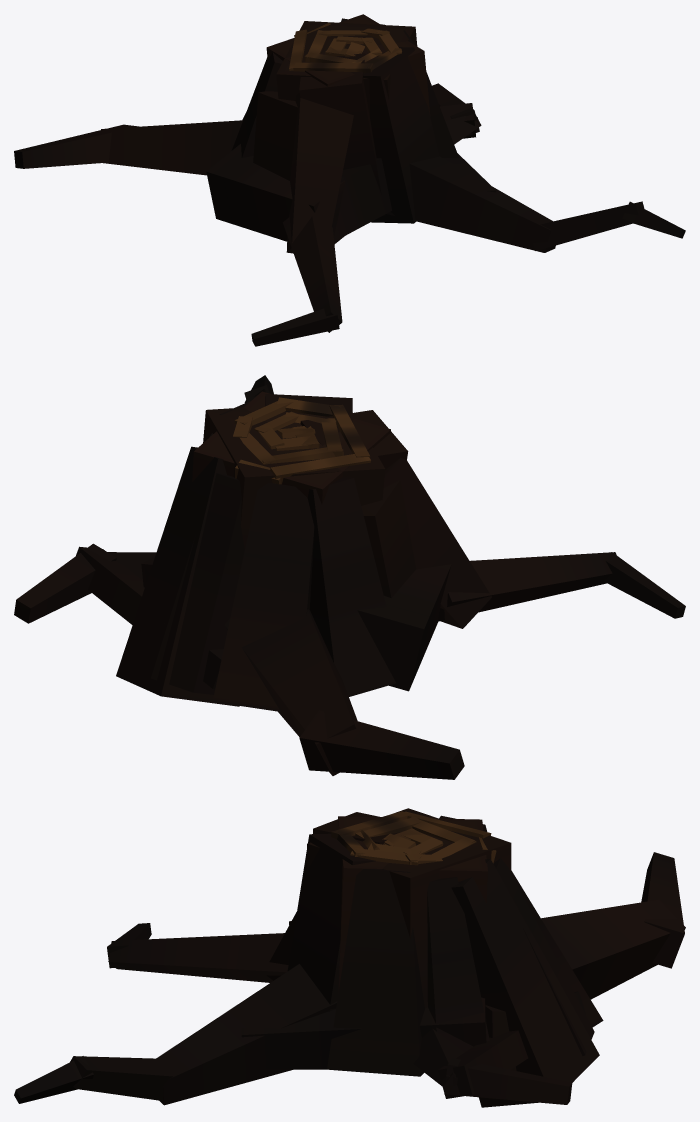
Rendered from Treetrunk_01_quill.fbx.
The picture shows the model from 3 angles, top to bottom: view 1: azimuth 30°, elevation 25°; view 2: azimuth 150°, elevation 25°; view 3: azimuth 270°, elevation 25°; orthographic projection. The views are drawn at different scales.
Visible parts, largest first — view 1: Treetrunk; view 2: Treetrunk; view 3: Treetrunk.
Part boxes in pixels (x1,y1,x2,y2): Treetrunk: [14, 14, 685, 346]; Treetrunk: [14, 375, 685, 779]; Treetrunk: [14, 808, 685, 1107].
Size of the model in its own units: 1.71 by 0.7704 by 1.92.
